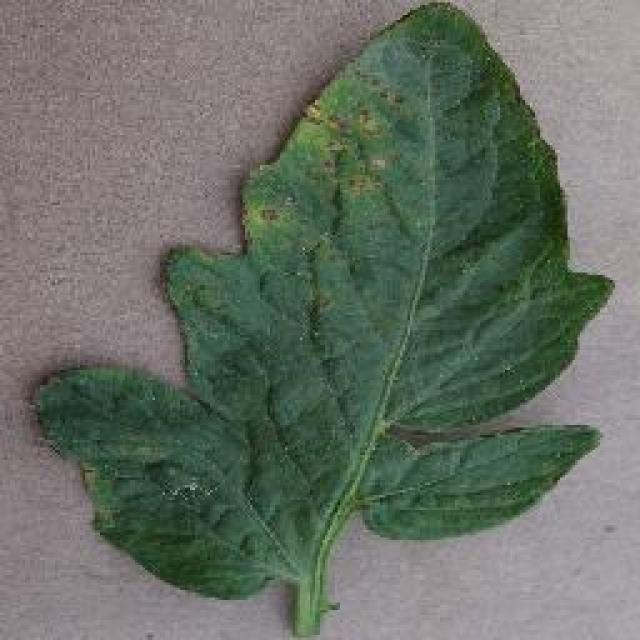Tomato bacterial spot leaf: (32, 4, 608, 608)
